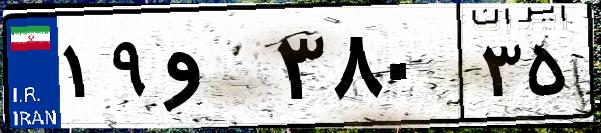0: (385, 28, 445, 110)
1: (57, 26, 110, 100)
3: (270, 28, 330, 110), (475, 38, 525, 113)
5: (525, 38, 570, 115)
8: (330, 28, 385, 110)
9: (110, 28, 158, 98)
و: (158, 20, 270, 120)
